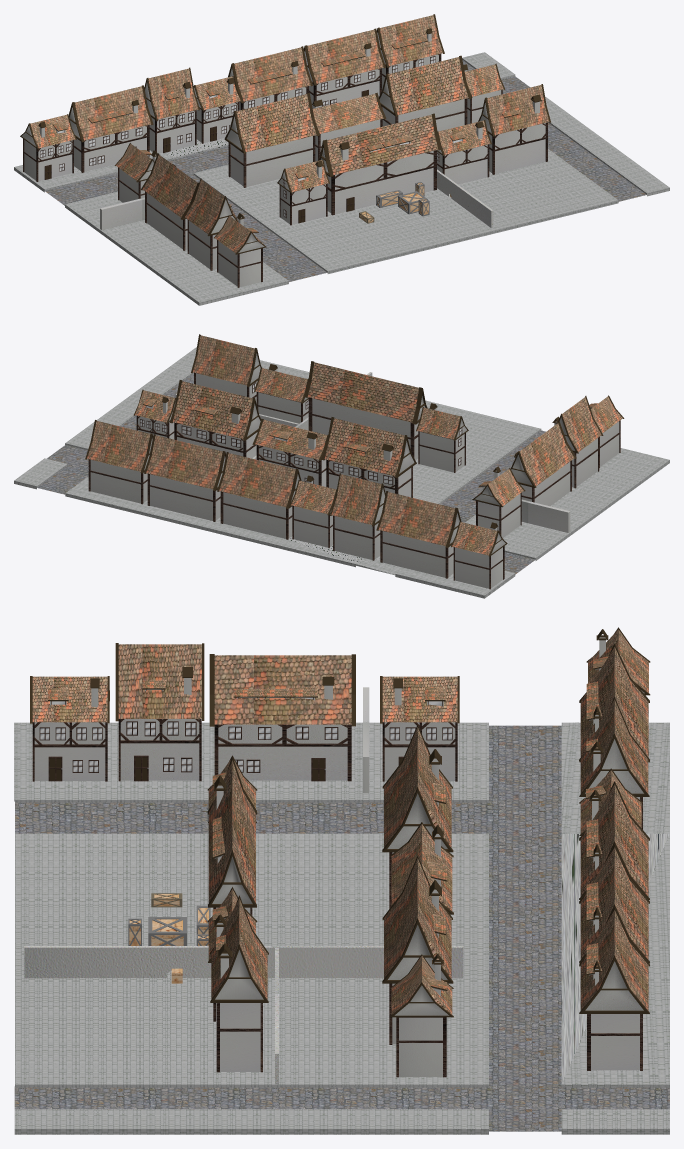
File: Chapter 0_alley.fbx
3 renders of one model, top to bottom at view 1: azimuth 30°, elevation 25°; view 2: azimuth 150°, elevation 25°; view 3: azimuth 270°, elevation 25°, orthographic. The views are drawn at different scales.
Parts seen in each view (by area): view 1: roof (×19), road, house_frame (×17), wall, pCube1; view 2: roof (×19), house_frame (×19), road, pCube1; view 3: road, roof (×17), house_frame (×7), wall, iron_box, pCube1.
Part boxes in pixels (x1=…): roof (×19): x1=20, y1=14, x2=550, y2=254; road: x1=14, y1=52, x2=669, y2=305; house_frame (×17): x1=23, y1=68, x2=547, y2=287; wall: x1=437, y1=169, x2=493, y2=228; pCube1: x1=100, y1=197, x2=144, y2=229; roof (×19): x1=85, y1=334, x2=624, y2=556; house_frame (×19): x1=88, y1=373, x2=620, y2=589; road: x1=14, y1=347, x2=669, y2=598; pCube1: x1=521, y1=499, x2=570, y2=532; road: x1=14, y1=722, x2=669, y2=1134; roof (×17): x1=30, y1=627, x2=650, y2=1017; house_frame (×7): x1=32, y1=719, x2=642, y2=1077; wall: x1=24, y1=946, x2=463, y2=978; iron_box: x1=148, y1=917, x2=186, y2=945; pCube1: x1=363, y1=687, x2=369, y2=793.
Size of the model in its own units: 85.87 by 13.28 by 58.57.
